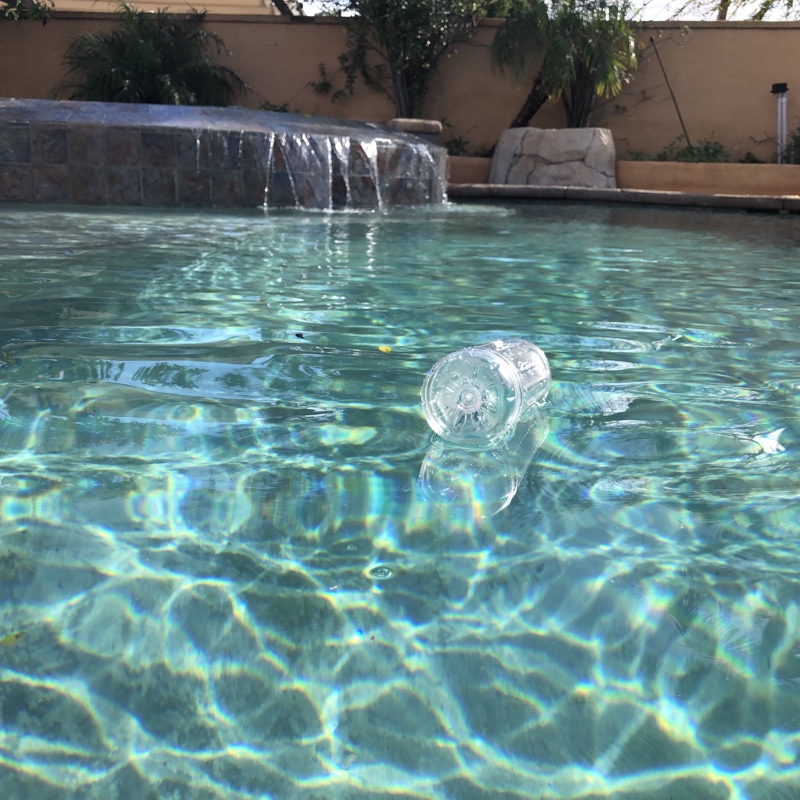Plastic Bottle: (414, 335, 553, 447)
